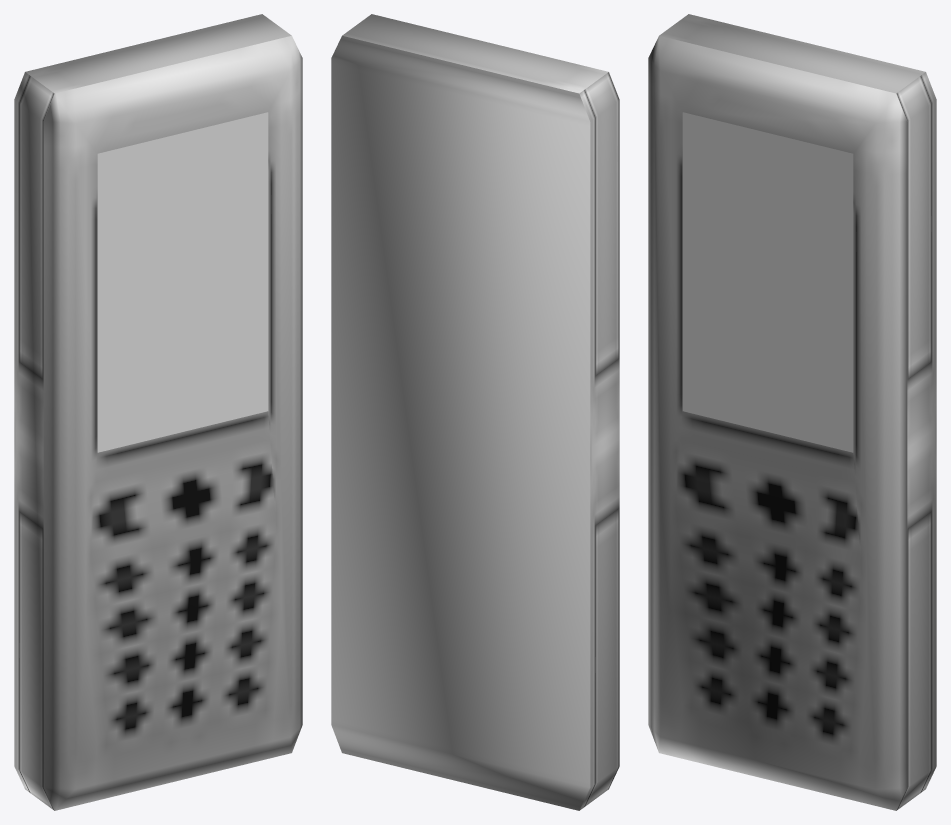
Rendered from Phone.fbx.
3 renders of one model, left to right at view 1: azimuth 30°, elevation 25°; view 2: azimuth 150°, elevation 25°; view 3: azimuth 330°, elevation 25°, orthographic.
Parts seen in each view (by area): view 1: Cell Phone.001; view 2: Cell Phone.001; view 3: Cell Phone.001.
Part boxes in pixels (x1,y1,x2,y2): Cell Phone.001: (14,14,302,810); Cell Phone.001: (331,14,619,810); Cell Phone.001: (648,14,936,810).
Size of the model in its own units: 15.87 by 41.99 by 4.16.
Materials: 1 (1 with a texture image).
